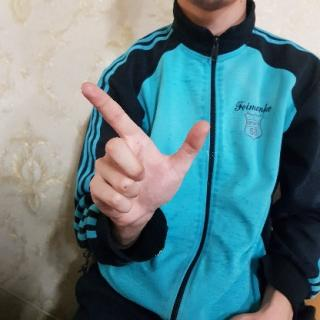LAAM: (79, 76, 213, 234)
